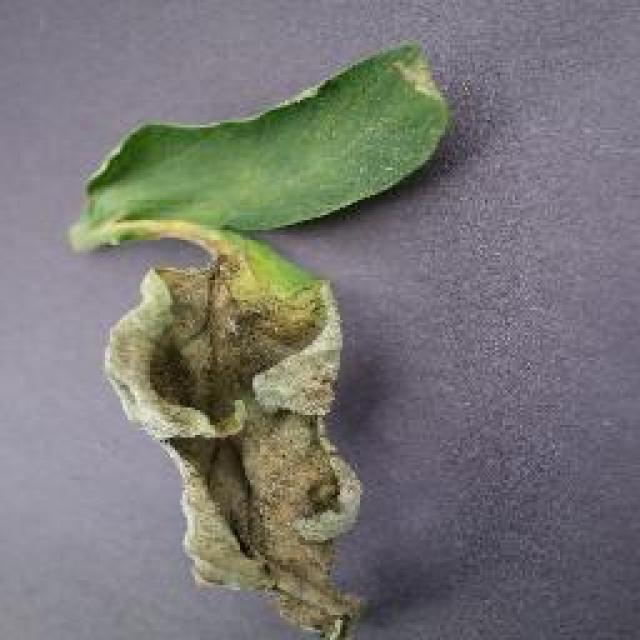Tomato___Late_blight: (65, 42, 452, 638)
